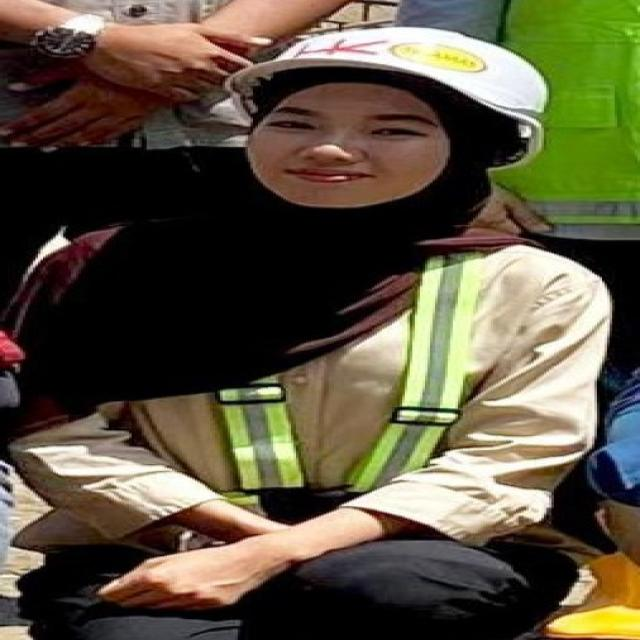safetyhelmet: (204, 23, 573, 172)
